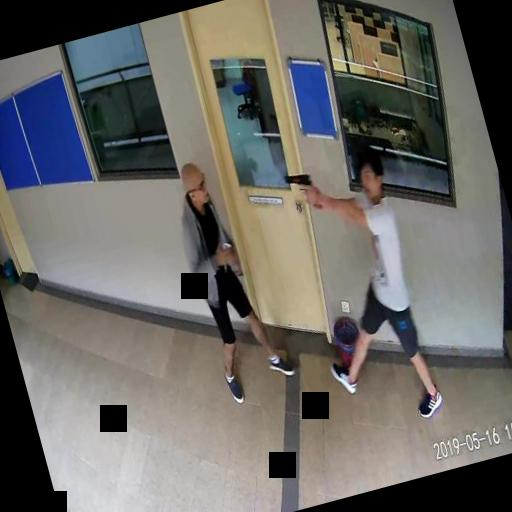Handgun: (282, 168, 314, 204)
